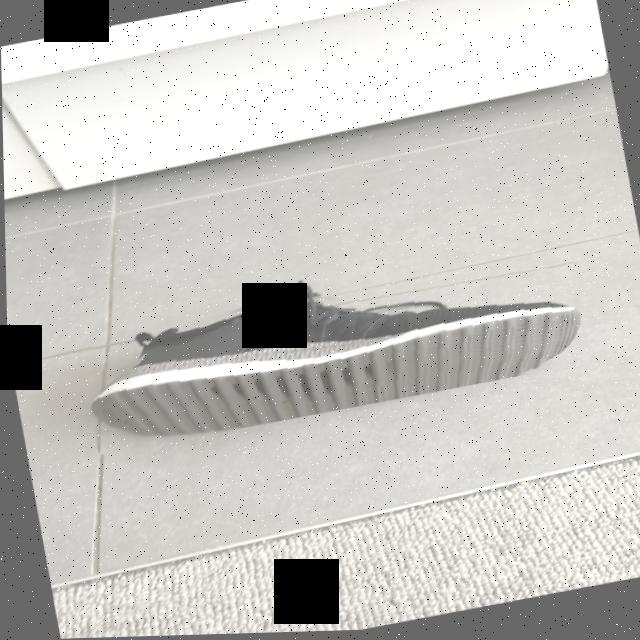shoe: (74, 242, 594, 456)
